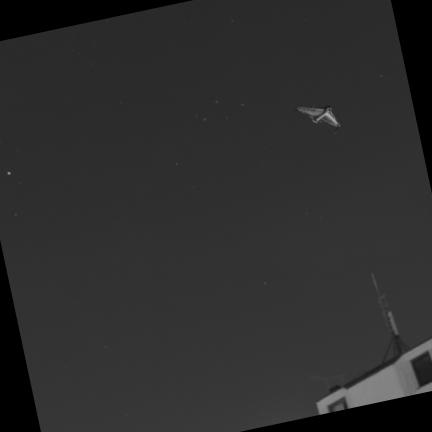Shahed: (294, 107, 340, 132)
